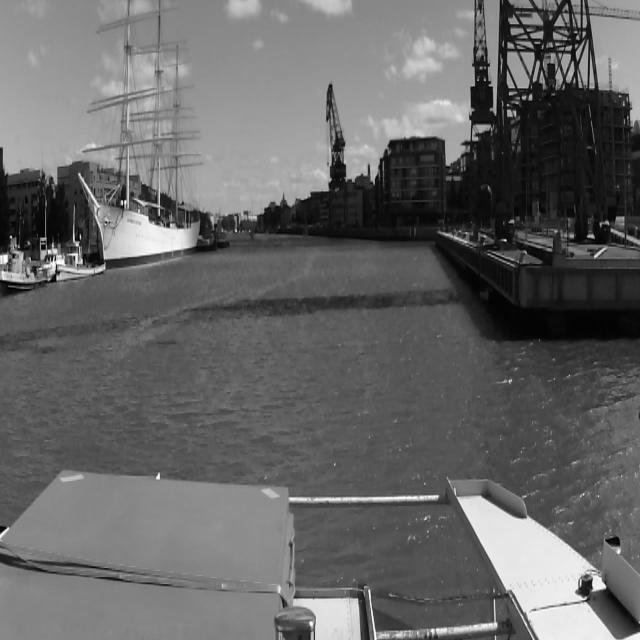ship: (78, 5, 200, 265), (0, 242, 38, 297), (56, 243, 106, 278), (36, 245, 64, 280)
